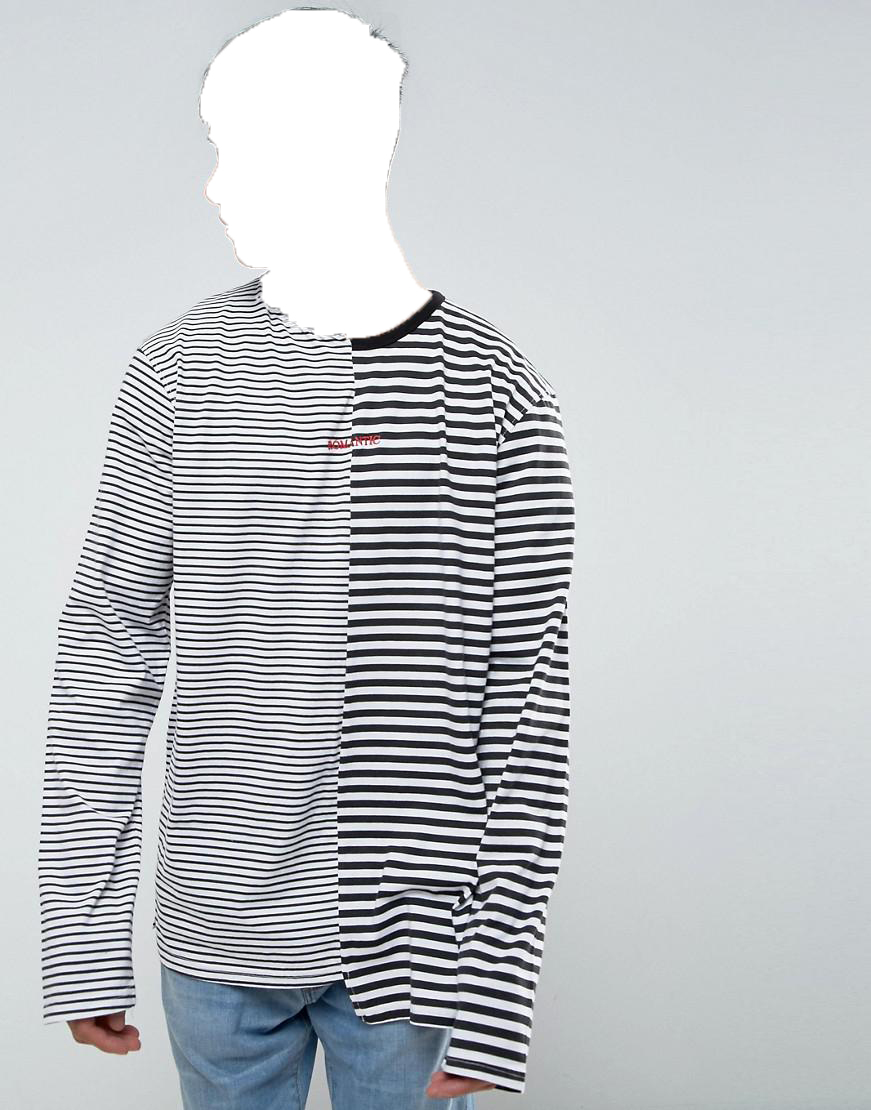teeshirt: (32, 285, 578, 1096)
